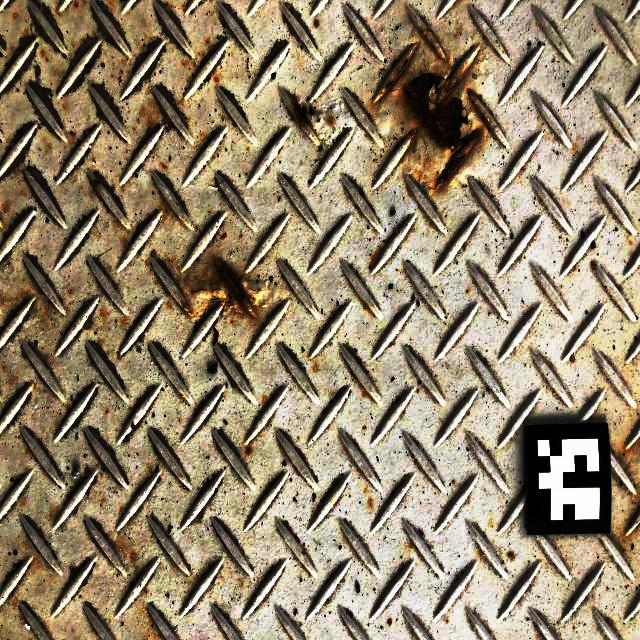Corrosion: (378, 25, 499, 193), (181, 256, 275, 318), (290, 99, 316, 130), (138, 100, 160, 128), (166, 256, 180, 287), (159, 197, 175, 219), (198, 39, 214, 59), (368, 249, 383, 268), (42, 304, 50, 324), (83, 315, 93, 330), (110, 541, 125, 550), (39, 353, 50, 365), (50, 509, 58, 523), (21, 291, 30, 303), (80, 37, 88, 50), (92, 178, 102, 188), (213, 69, 220, 83), (605, 617, 613, 628), (121, 237, 128, 248), (166, 3, 173, 14), (591, 262, 599, 271), (479, 547, 486, 557), (200, 132, 207, 142), (317, 115, 323, 126), (23, 28, 29, 38), (220, 232, 227, 240), (245, 446, 252, 454), (507, 552, 515, 559), (131, 553, 138, 561), (368, 498, 373, 508), (145, 259, 151, 267), (362, 302, 368, 310), (183, 116, 189, 123), (166, 302, 172, 309), (146, 86, 152, 93), (115, 219, 121, 226), (409, 541, 414, 549), (387, 618, 392, 626), (462, 241, 466, 251), (572, 263, 577, 271), (41, 49, 46, 57), (31, 380, 36, 388), (313, 364, 318, 372), (143, 588, 149, 594), (314, 19, 318, 28), (70, 133, 76, 139), (73, 2, 79, 8), (156, 278, 161, 285), (104, 408, 109, 415), (328, 117, 332, 125), (162, 163, 167, 169), (301, 551, 306, 556), (362, 390, 366, 396), (220, 179, 225, 183), (465, 289, 469, 293), (308, 354, 312, 358), (333, 497, 336, 502), (239, 234, 242, 238)
